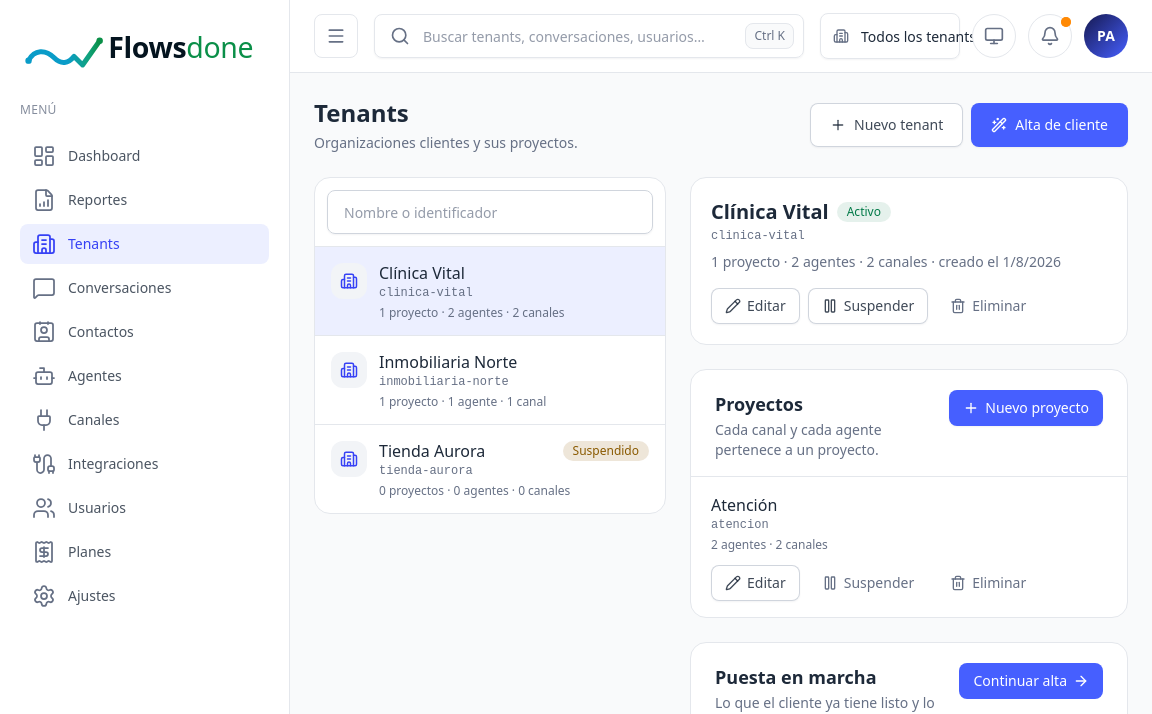
Test: gestión de tenants (admin) › edita el nombre de un tenant
The image size is (1152, 714).
Expected: the heading "Tenants" is shown, [314,96,409,129]
Expected: the list named "Tenants" is shown, [315,247,665,513]
Click the button with aria-label "Editar Clínica Vital": click(755, 306) [711,288,800,324]
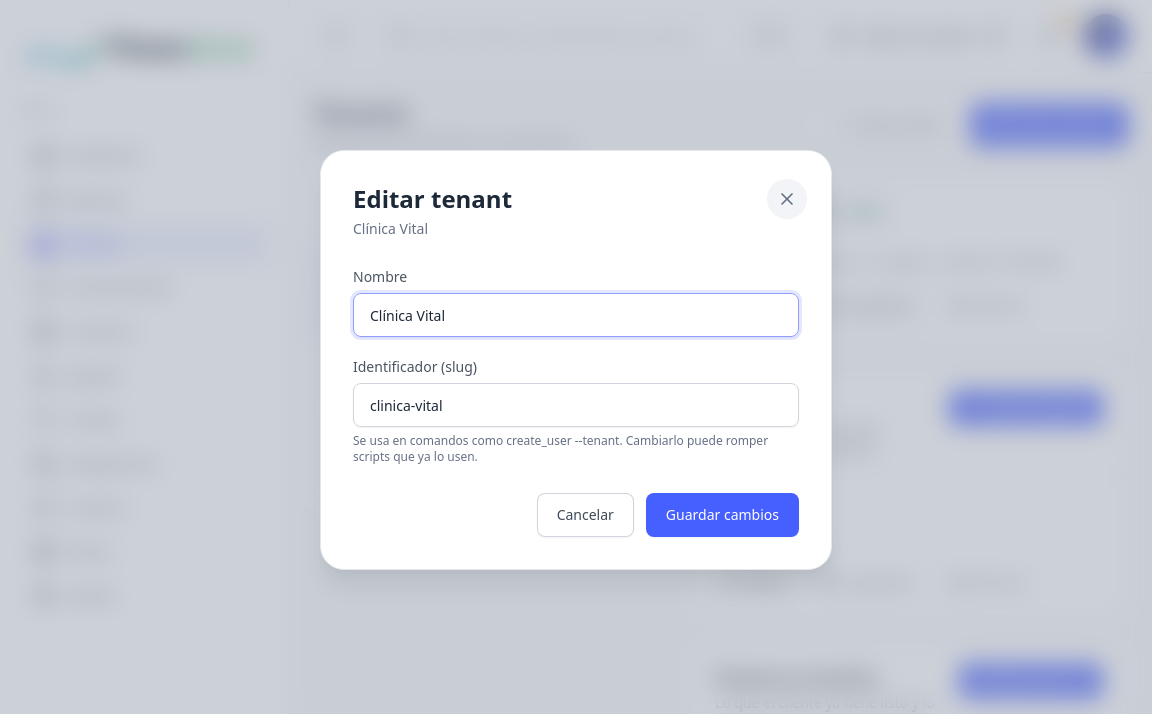
In the field labelled "Nombre": (576, 315) [353,293,799,337], type "Clínica Vital Norte"
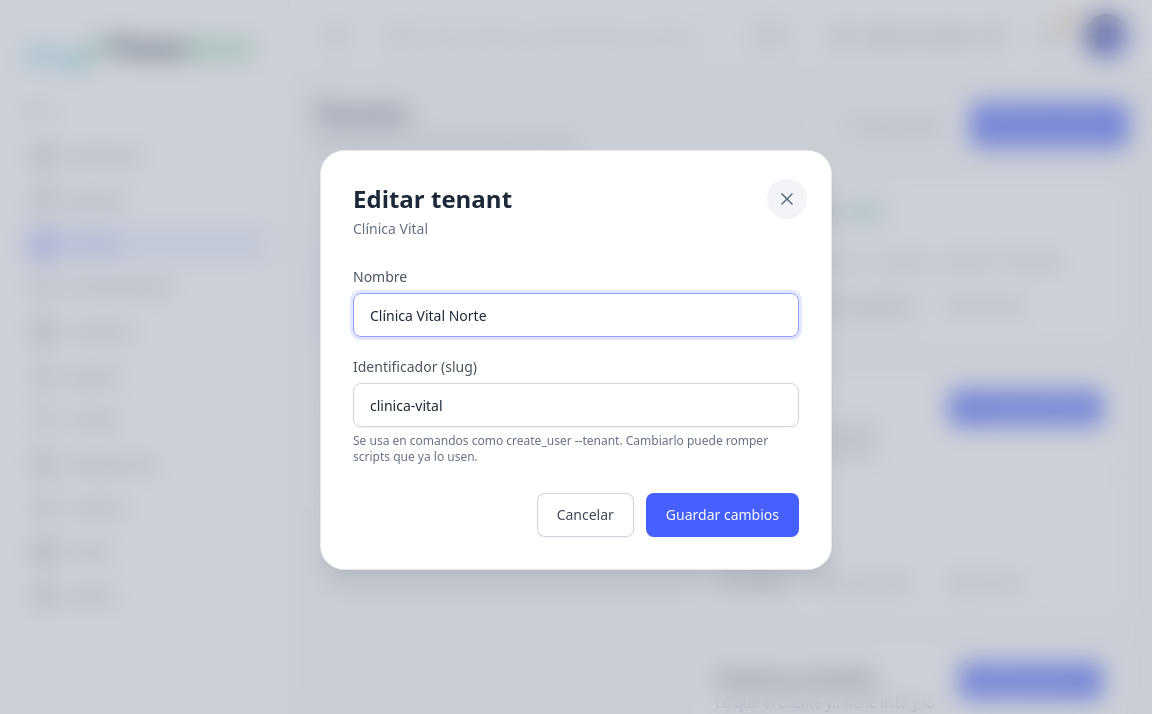
Click the button "Guardar cambios": click(722, 515) [646,493,799,537]
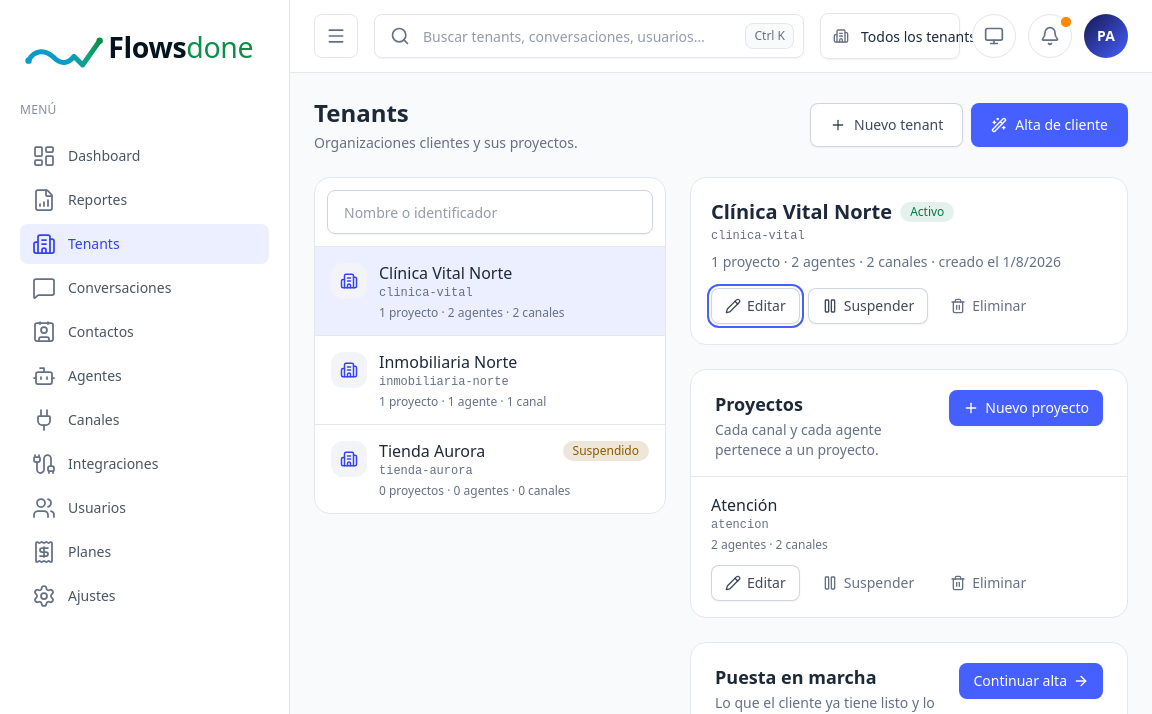
Result: the heading "Clínica Vital Norte Activo" is shown at [711,198,954,225]
